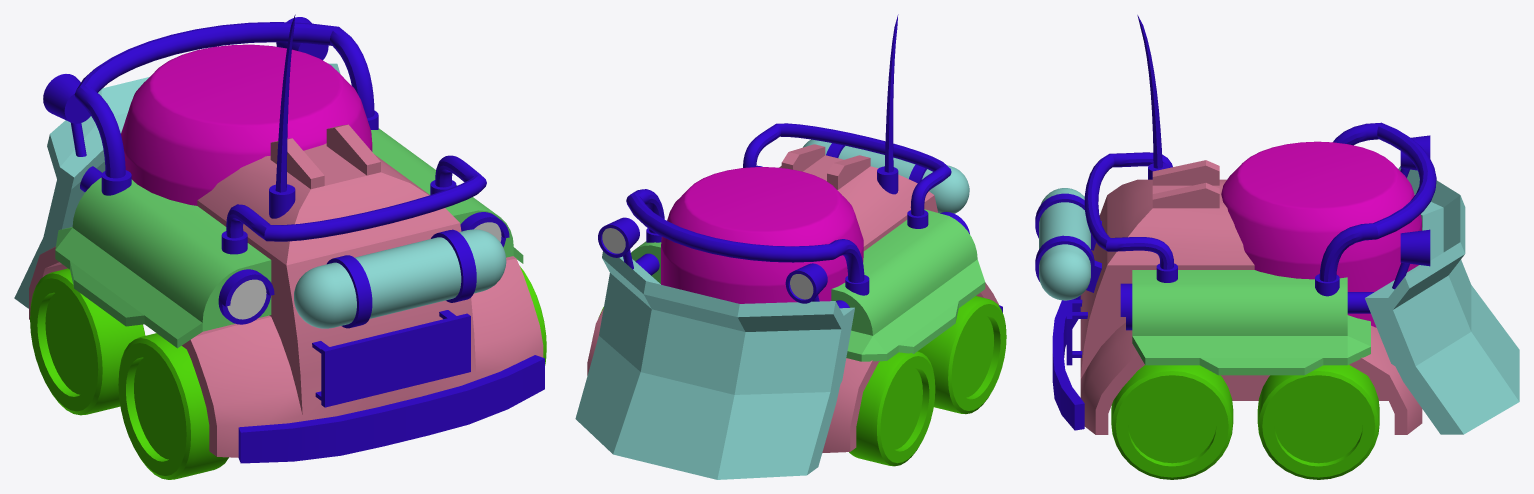
File: ROBO.fbx
3 views of the same model, side by side, from view 1: azimuth 30°, elevation 25°; view 2: azimuth 150°, elevation 25°; view 3: azimuth 270°, elevation 25° (orthographic). The views are drawn at different scales.
Visible parts, largest first — view 1: Robot.001, WheelBL.001, WheelFL.001, Robot.002; view 2: Robot.001, Robot.002, WheelFL.001, WheelBL.001; view 3: Robot.001, Robot.002, wheelBR.001, wheelFR.001.
Boxes of the visible parts, x1,y1,x2,y2 form: Robot.001: (29, 14, 544, 463); WheelBL.001: (118, 333, 228, 479); WheelFL.001: (30, 268, 145, 415); Robot.002: (14, 63, 340, 308); Robot.001: (587, 14, 1002, 452); Robot.002: (575, 251, 854, 479); WheelFL.001: (849, 351, 935, 466); WheelBL.001: (918, 296, 1006, 414); Robot.001: (1035, 15, 1436, 434); Robot.002: (1347, 166, 1519, 434); wheelBR.001: (1111, 365, 1233, 479); wheelFR.001: (1257, 365, 1379, 479).
Bounding box in the file's own units: 1.28 × 1.51 × 1.79.
